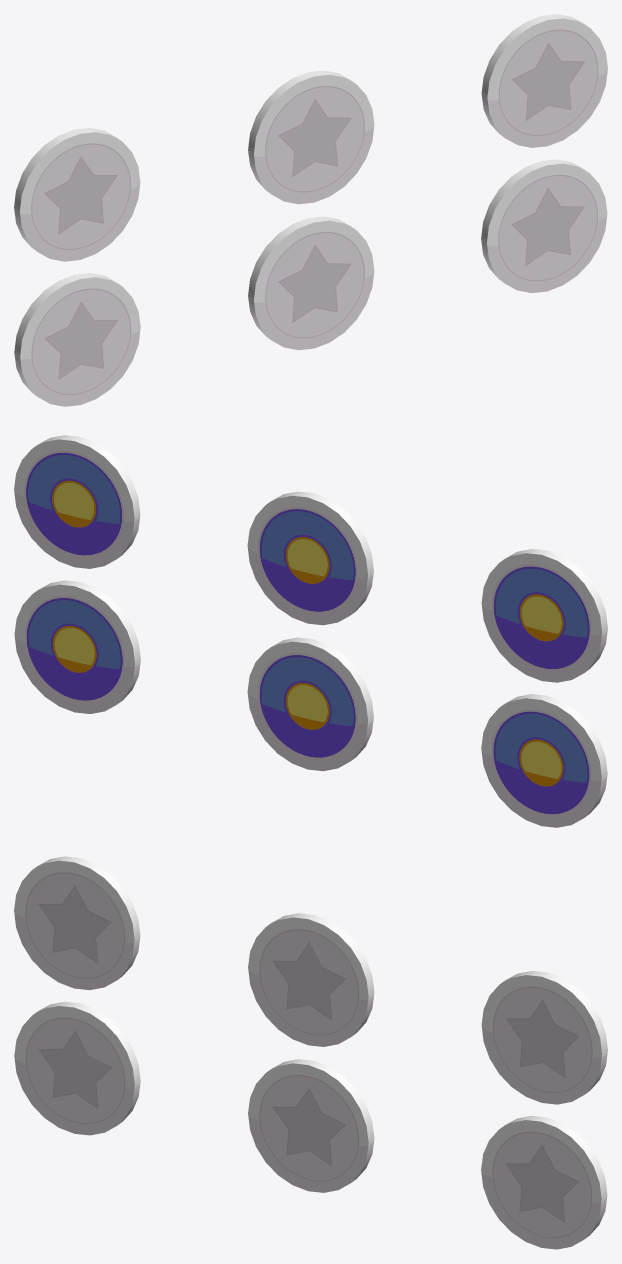
The model's file is bazi_bg.glb.
3 views of the same model, one above another, from view 1: azimuth 30°, elevation 25°; view 2: azimuth 150°, elevation 25°; view 3: azimuth 330°, elevation 25° (orthographic).
Parts seen in each view (by area): view 1: bazi6, bazi3, bazi2, bazi4, bazi1, bazi5; view 2: bazi6, bazi3, bazi2, bazi4, bazi1, bazi5; view 3: bazi2, bazi3, bazi4, bazi5, bazi1, bazi6.
Boxes of the visible parts, x1,y1,x2,y2 form: bazi6: (14, 273, 140, 406); bazi3: (14, 128, 140, 261); bazi2: (248, 70, 374, 204); bazi4: (481, 159, 607, 292); bazi1: (481, 14, 607, 147); bazi5: (248, 216, 374, 350); bazi6: (481, 694, 607, 827); bazi3: (481, 549, 607, 682); bazi2: (247, 491, 373, 625); bazi4: (14, 580, 140, 713); bazi1: (14, 435, 140, 568); bazi5: (247, 637, 373, 771); bazi2: (248, 913, 374, 1046); bazi3: (14, 856, 140, 990); bazi4: (481, 1115, 607, 1249); bazi5: (248, 1059, 374, 1192); bazi1: (481, 971, 607, 1104); bazi6: (14, 1001, 140, 1135).
Bounding box in the file's own units: 5.85 × 2.59 × 0.1.
1 material, 1 textured.
